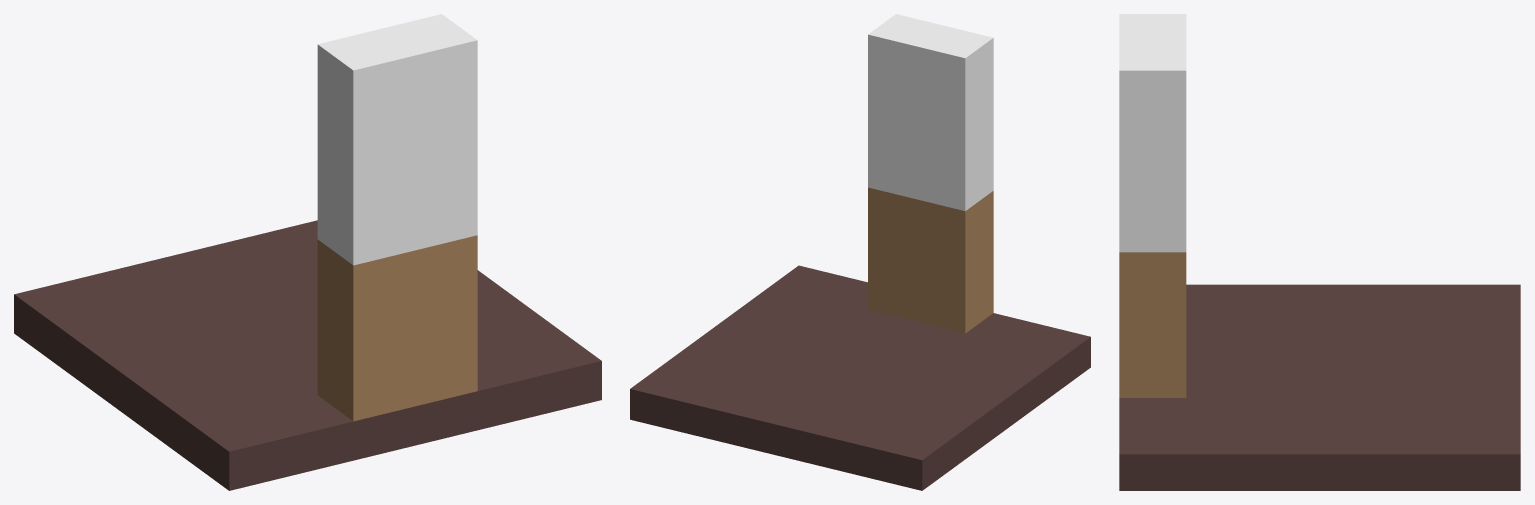
Rendered from floor_end.FBX.
3 renders of one model, left to right at view 1: azimuth 30°, elevation 25°; view 2: azimuth 150°, elevation 25°; view 3: azimuth 270°, elevation 25°, orthographic. The views are drawn at different scales.
Visible parts, largest first — view 1: Object262; view 2: Object262; view 3: Object262.
Part boxes in pixels (left/top/right/bottom): Object262: left=14, top=14, right=601, bottom=490; Object262: left=630, top=14, right=1090, bottom=490; Object262: left=1119, top=14, right=1520, bottom=490.
Size of the model in its own units: 100 by 100 by 100.
